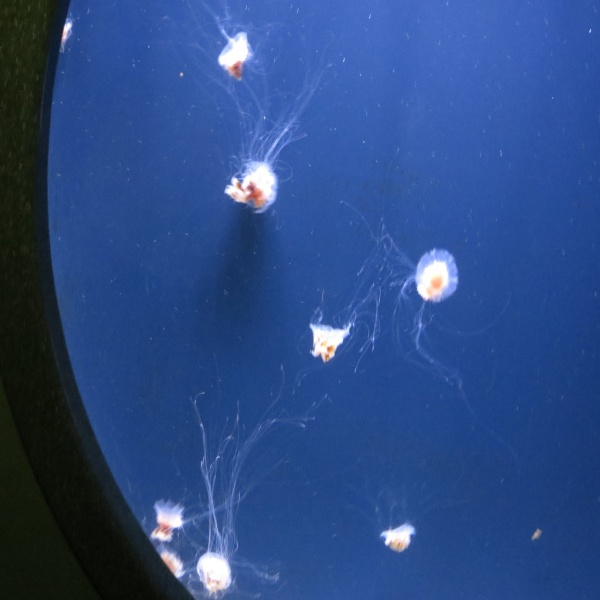Jellyfish: (149, 360, 325, 599), (345, 197, 512, 408), (220, 52, 329, 215), (306, 245, 394, 373), (340, 473, 456, 552), (182, 0, 256, 80)
